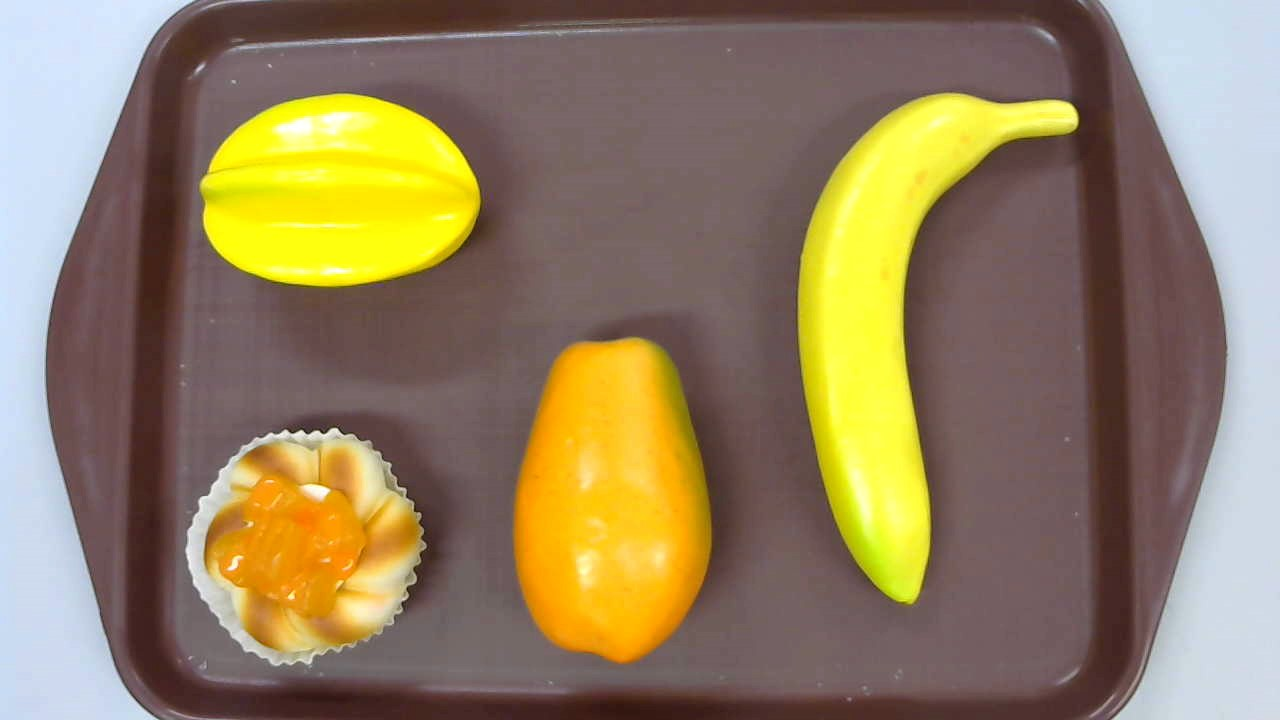banana: (797, 93, 1078, 606)
mango tart: (186, 428, 428, 666)
papya: (513, 337, 710, 662)
star fruit: (198, 93, 479, 288)
